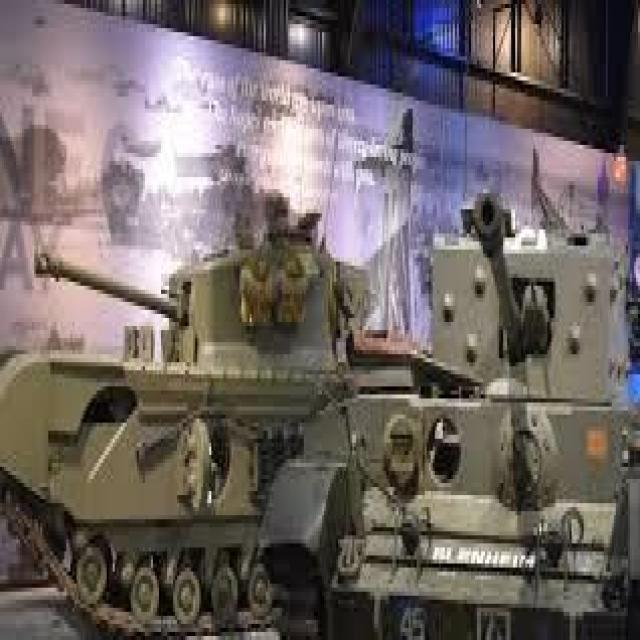Tanks: (7, 50, 345, 610), (356, 113, 624, 624)
